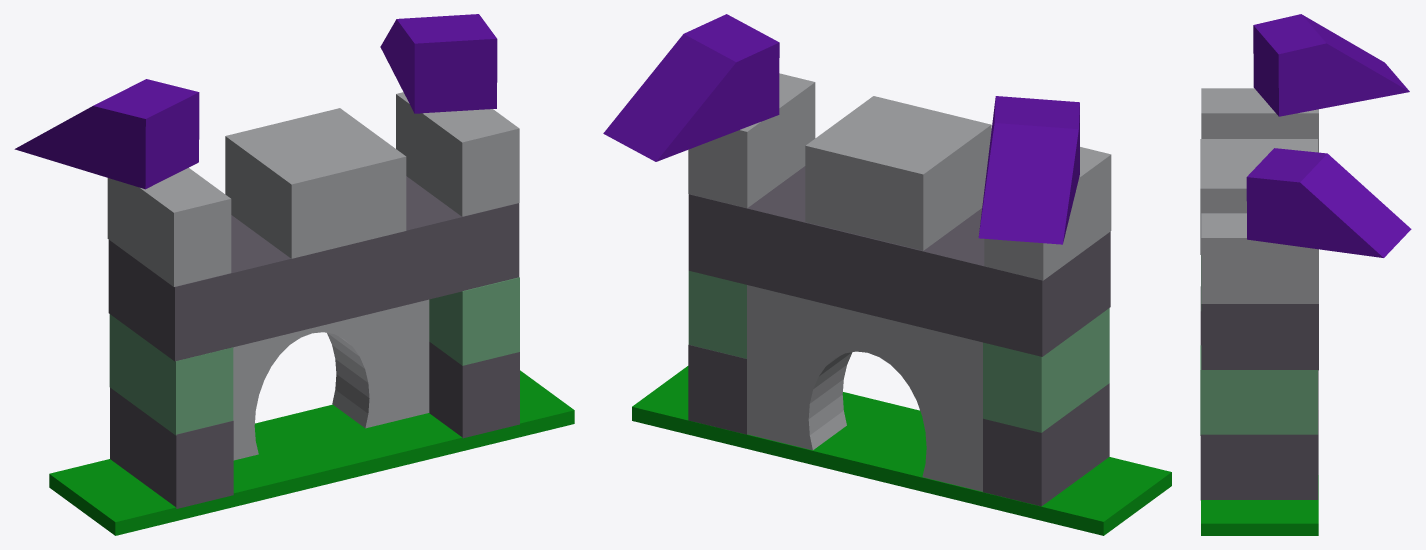
Rendered from castle.fbx.
The picture shows the model from 3 angles, left to right: view 1: azimuth 30°, elevation 25°; view 2: azimuth 150°, elevation 25°; view 3: azimuth 270°, elevation 25°; orthographic projection. The views are drawn at different scales.
Visible parts, largest first — view 1: ElephantBody_T.001, Cube.001, ElephentLeg_F.012, ElephentLeg_F.005, rightfin.002, ElephentLeg_F.011, ElephentLeg_F.010, rightfin.001, ElephentLeg_F.009, ElephentLeg_F.008, ElephentLeg_F.006, ElephentLeg_F.007; view 2: ElephantBody_T.001, ElephentLeg_F.005, ElephentLeg_F.012, Cube.001, rightfin.001, rightfin.002, ElephentLeg_F.009, ElephentLeg_F.010, ElephentLeg_F.008, ElephentLeg_F.011, ElephentLeg_F.006, ElephentLeg_F.007; view 3: rightfin.001, rightfin.002, ElephentLeg_F.010, ElephentLeg_F.006, ElephantBody_T.001, ElephentLeg_F.007, ElephentLeg_F.012, ElephentLeg_F.011, Cube.001.
Part boxes in pixels (x1,y1,x2,y2): ElephantBody_T.001: [108, 176, 519, 361]; Cube.001: [49, 370, 574, 535]; ElephentLeg_F.012: [225, 108, 406, 258]; ElephentLeg_F.005: [233, 299, 429, 460]; rightfin.002: [14, 79, 199, 189]; ElephentLeg_F.011: [107, 167, 231, 286]; ElephentLeg_F.010: [396, 92, 519, 216]; rightfin.001: [380, 14, 497, 113]; ElephentLeg_F.009: [109, 314, 233, 435]; ElephentLeg_F.008: [110, 387, 233, 508]; ElephentLeg_F.006: [429, 342, 519, 438]; ElephentLeg_F.007: [429, 277, 519, 365]; ElephantBody_T.001: [688, 166, 1110, 356]; ElephentLeg_F.005: [747, 285, 982, 491]; ElephentLeg_F.012: [805, 96, 991, 250]; Cube.001: [632, 366, 1171, 535]; rightfin.001: [603, 14, 779, 161]; rightfin.002: [978, 96, 1079, 244]; ElephentLeg_F.009: [983, 308, 1109, 432]; ElephentLeg_F.010: [688, 73, 815, 208]; ElephentLeg_F.008: [983, 383, 1109, 506]; ElephentLeg_F.011: [984, 147, 1111, 280]; ElephentLeg_F.006: [688, 344, 747, 434]; ElephentLeg_F.007: [688, 271, 746, 358]; rightfin.001: [1246, 148, 1411, 257]; rightfin.002: [1253, 14, 1409, 116]; ElephentLeg_F.010: [1201, 213, 1318, 303]; ElephentLeg_F.006: [1200, 410, 1318, 500]; ElephantBody_T.001: [1201, 304, 1318, 370]; ElephentLeg_F.007: [1200, 345, 1317, 435]; ElephentLeg_F.012: [1200, 139, 1317, 254]; ElephentLeg_F.011: [1201, 88, 1318, 152]; Cube.001: [1201, 475, 1318, 535].
Size of the model in its own units: 538 by 426 by 241.
